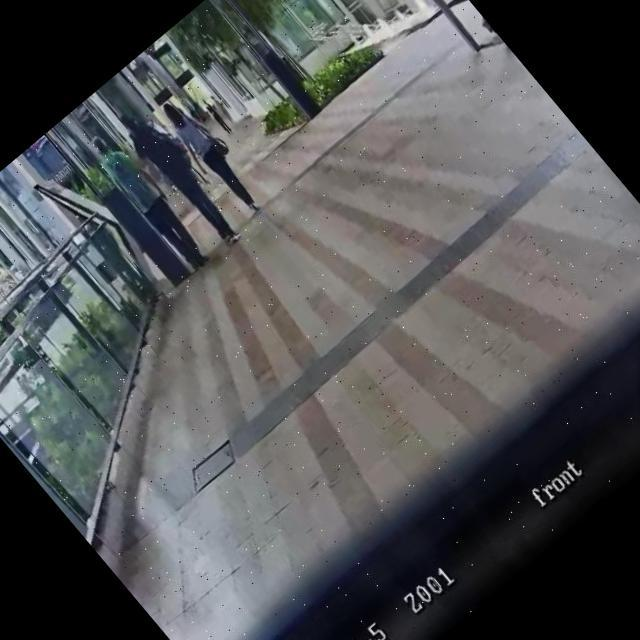person: (109, 96, 250, 255), (82, 123, 218, 277), (152, 90, 270, 222), (200, 98, 232, 135), (208, 93, 238, 128)
